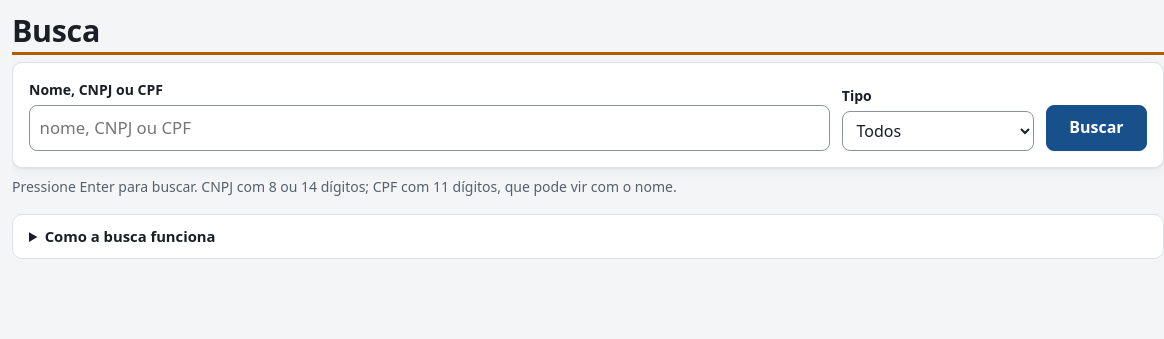
SearchPage › filtro de tipo vai para a API
Select "Empresa" in the dropdown labelled "Tipo" at (938, 131), box [842,111,1034,151]
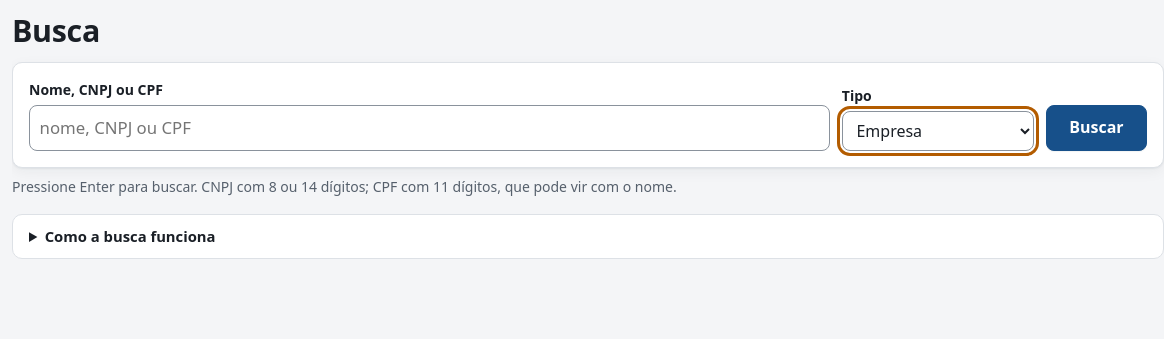
Type "ficticia" into the search field labelled "Nome, CNPJ ou CPF" at (429, 128), box [29,105,830,151]
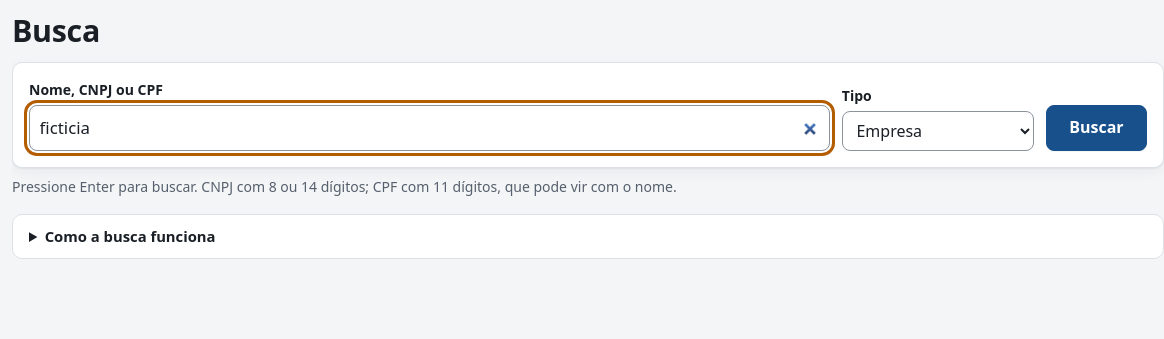
Click the button "Buscar" at (1096, 128), box [1046,105,1147,151]
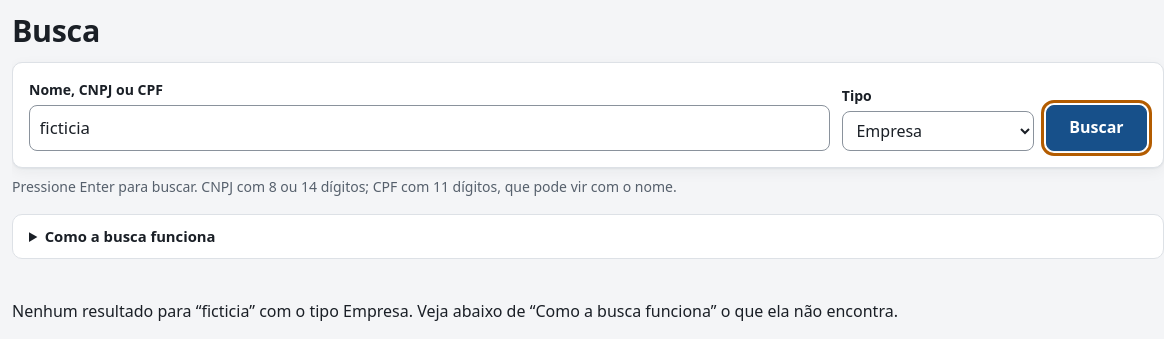
Now the text "Nenhum resultado" is shown, box [12,300,201,322]
